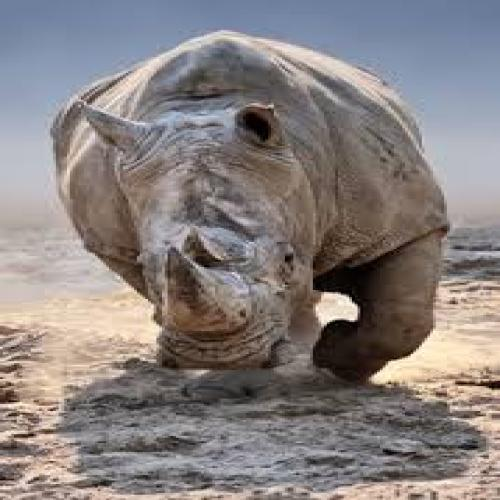rhino-endangered: (48, 23, 456, 389)
